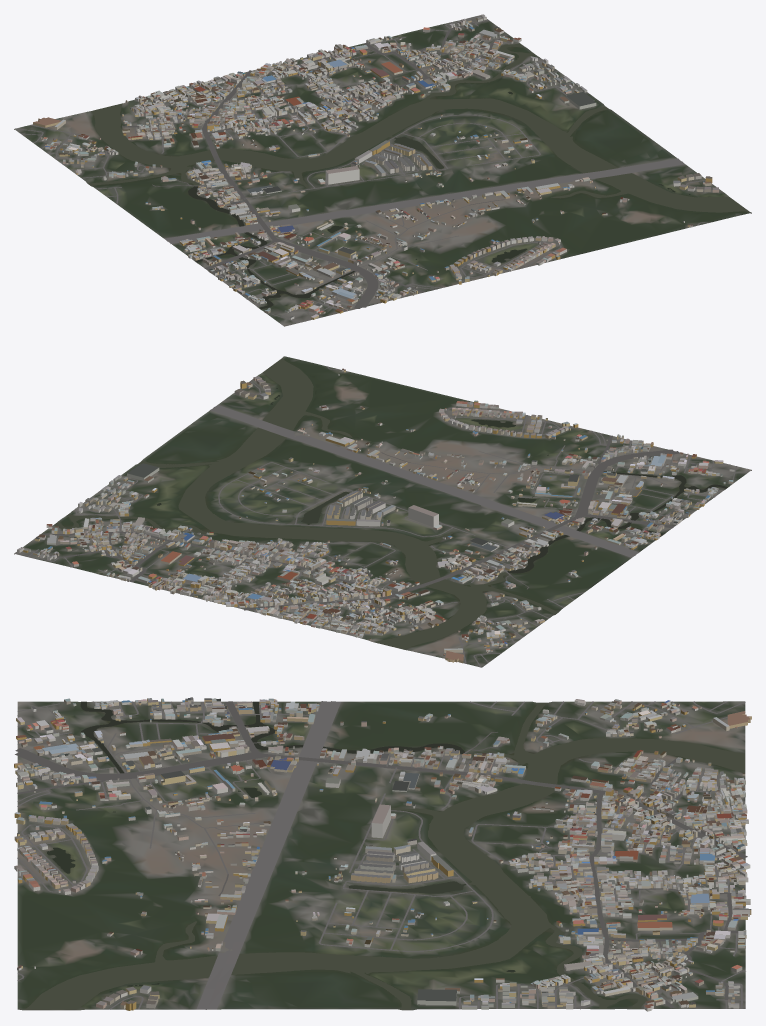
3 renders of one model, top to bottom at view 1: azimuth 30°, elevation 25°; view 2: azimuth 150°, elevation 25°; view 3: azimuth 270°, elevation 25°, orthographic. The views are drawn at different scales.
Parts seen in each view (by area): view 1: ground, buildings, water, roads; view 2: ground, buildings, water, roads; view 3: ground, buildings, water, roads.
Part boxes in pixels (x1=…): ground: x1=14, y1=15, x2=751, y2=326; buildings: x1=33, y1=14, x2=718, y2=319; water: x1=88, y1=35, x2=748, y2=309; roads: x1=15, y1=16, x2=712, y2=322; ground: x1=14, y1=356, x2=751, y2=667; buildings: x1=17, y1=368, x2=734, y2=663; water: x1=54, y1=358, x2=727, y2=648; roads: x1=15, y1=366, x2=736, y2=667; ground: x1=17, y1=701, x2=745, y2=1010; buildings: x1=14, y1=697, x2=751, y2=1011; water: x1=24, y1=701, x2=744, y2=1009; roads: x1=15, y1=701, x2=747, y2=1009.
Bounding box in the file's own units: 1414 × 36.53 × 1420.
